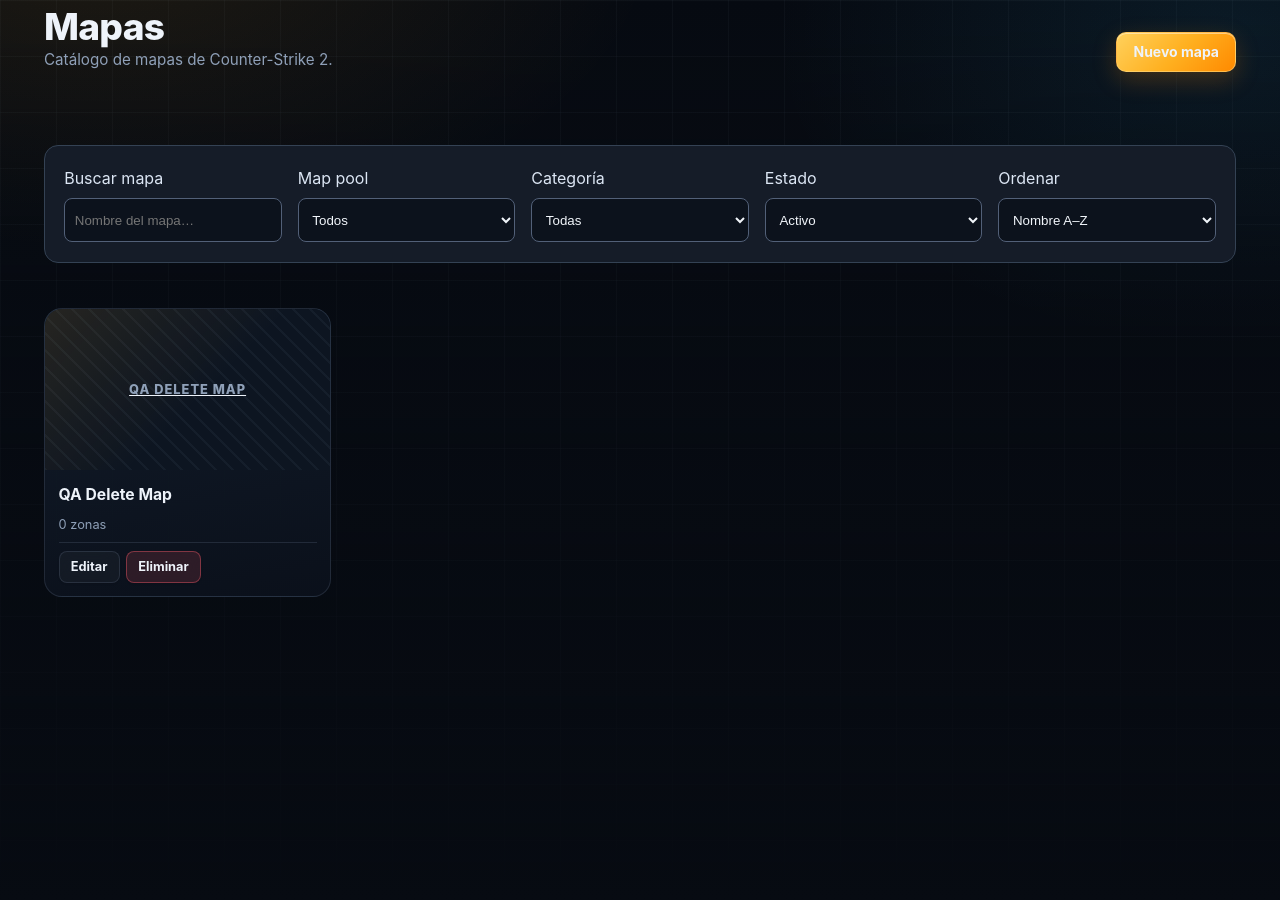
Maps page › envía el id numérico del mapa al confirmar la eliminación
This screenshot has width=1280, height=900.
Click the button "Eliminar": (164, 567) [126,551,201,583]
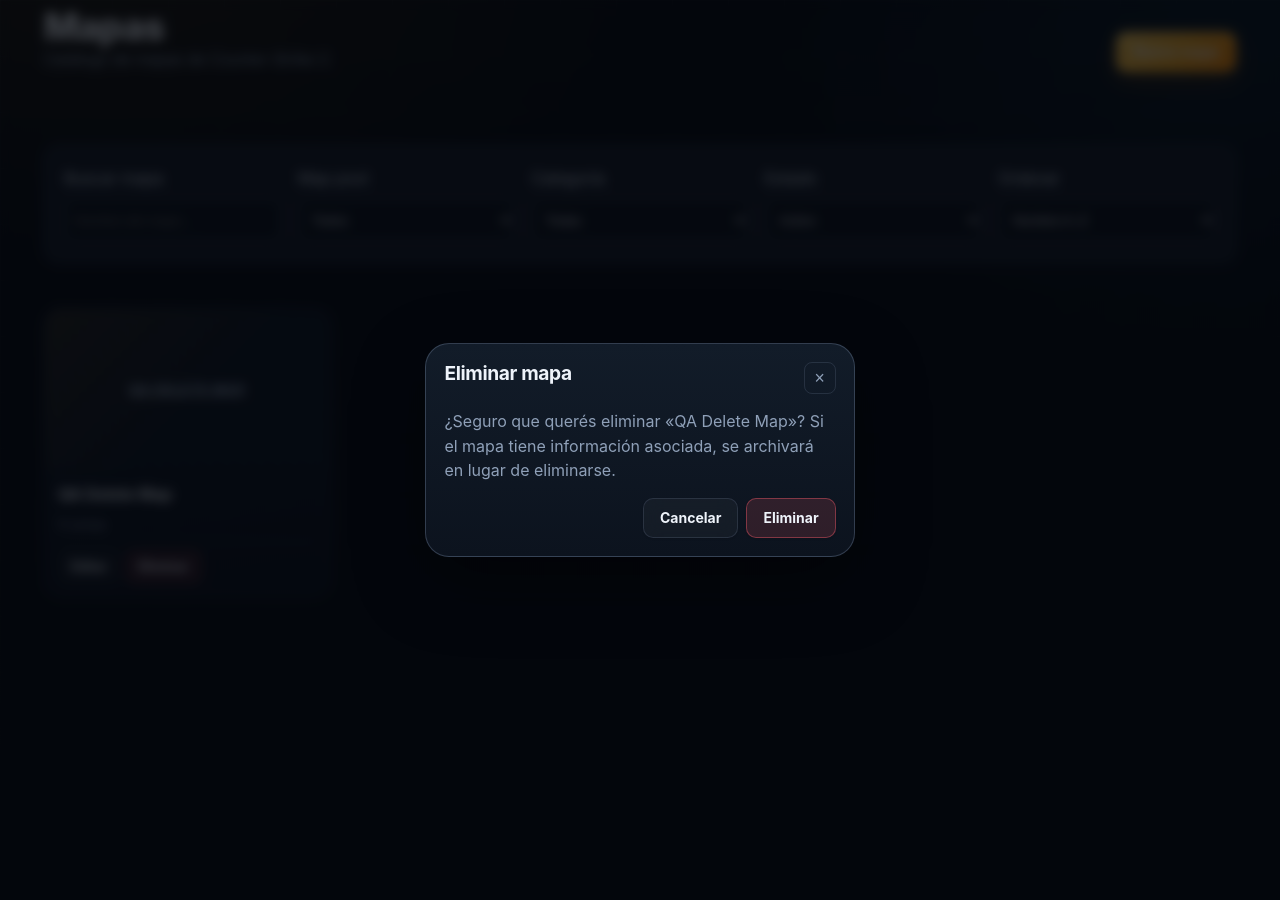
Click the button "Eliminar": (791, 518) [746,498,836,538]
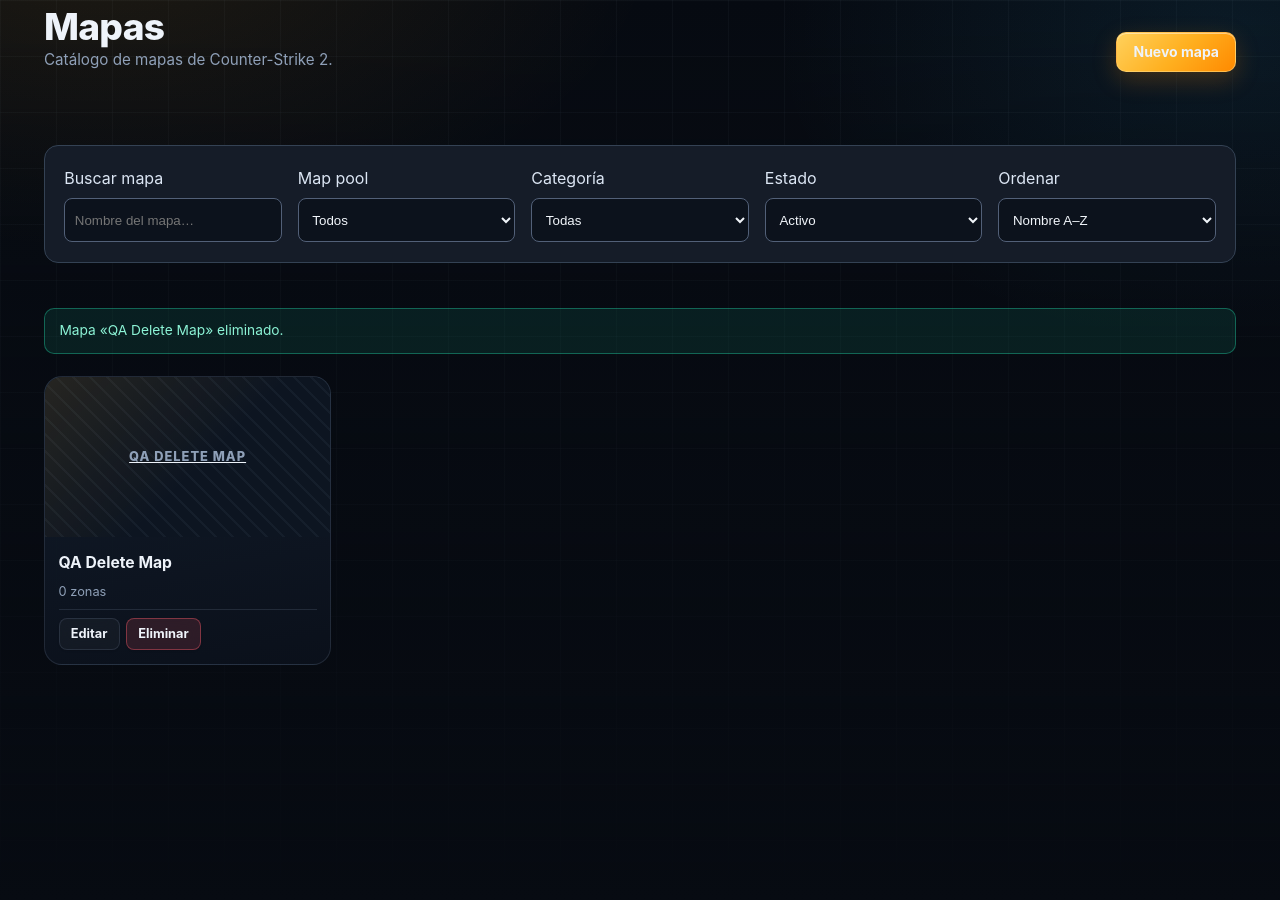
Now the text "Mapa «QA Delete Map» eliminado." is shown, box [44,308,1236,354]
